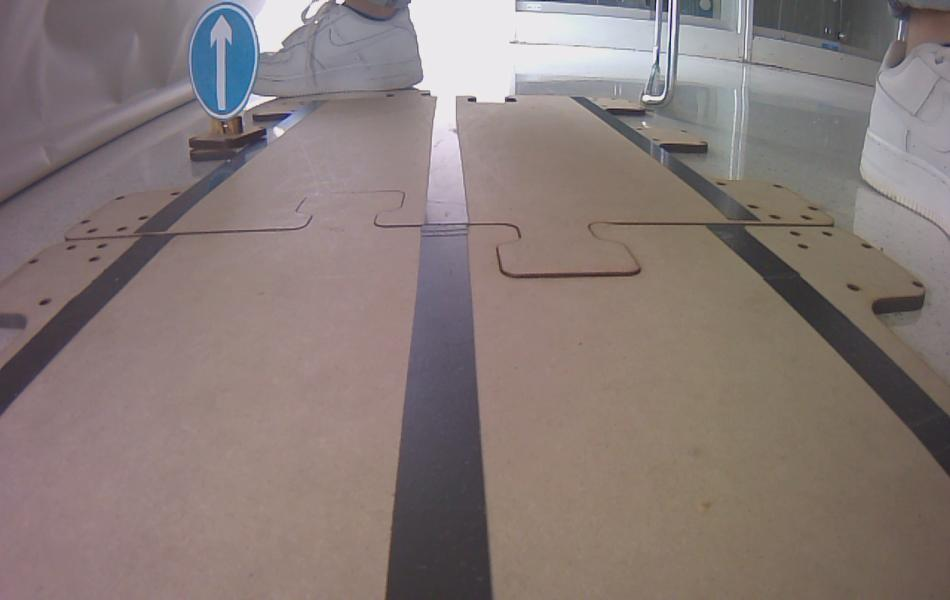straight: (188, 0, 260, 124)
